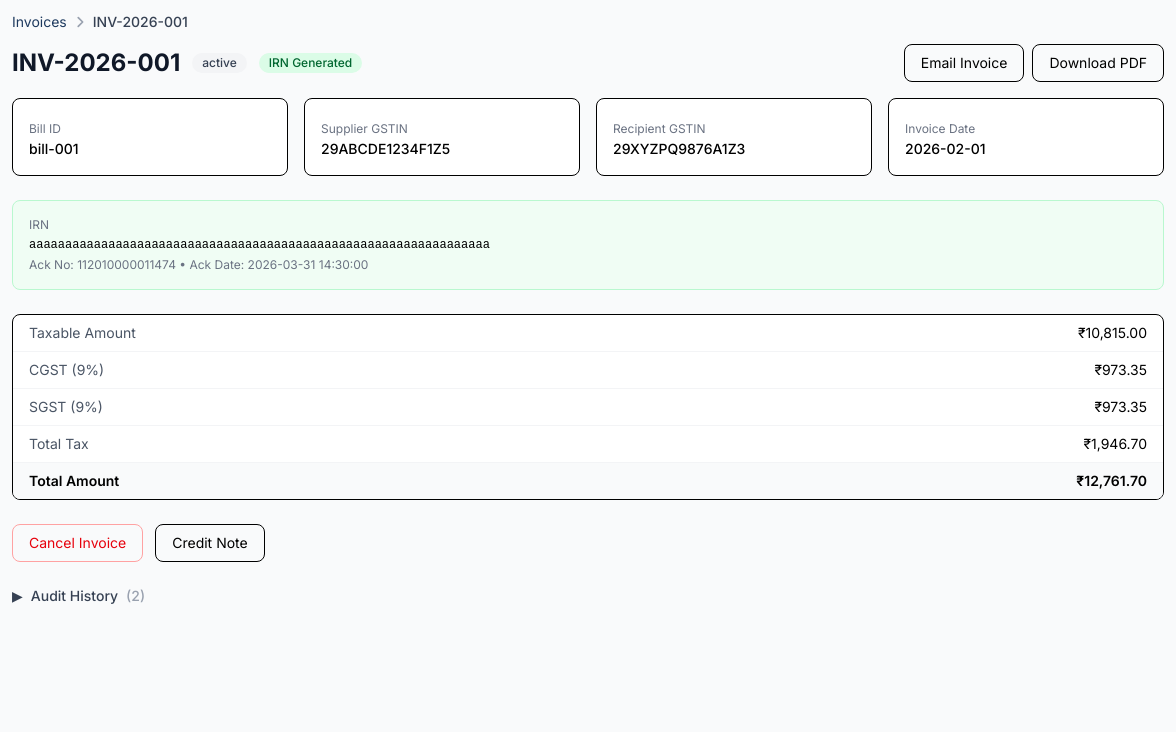
Test: InvoiceDetail page › DETAIL-03: cancel form shows select with enum options not free-text input
Expected: the heading "INV-2026-001" is shown, [12,47,180,79]
Click the button "Cancel Invoice": coordinates (78, 543) [12,524,143,562]
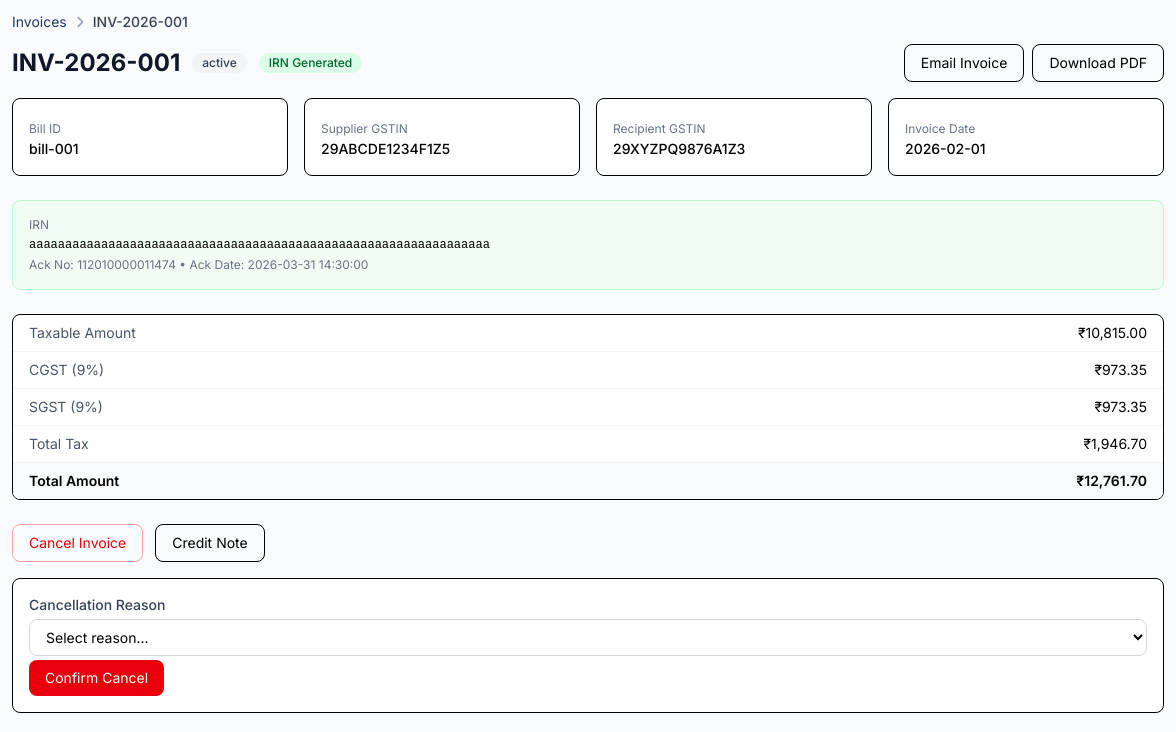
Now the dropdown is shown, box [29,619,1147,656]
